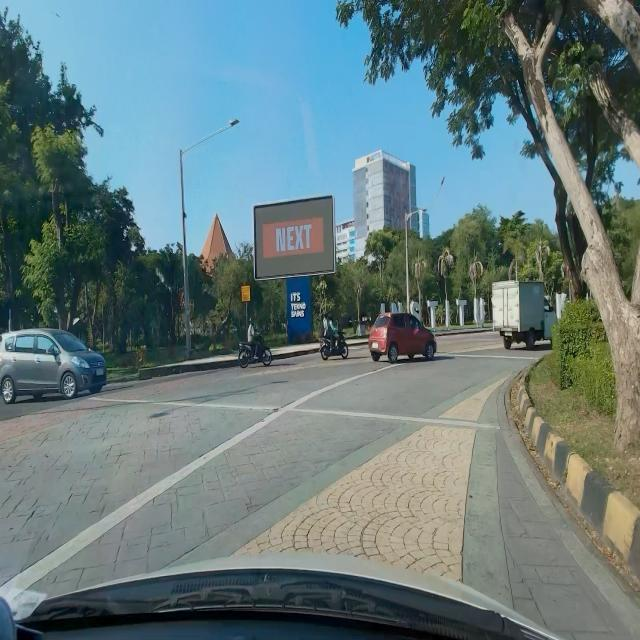car: (367, 311, 438, 364)
truck: (492, 275, 561, 351)
